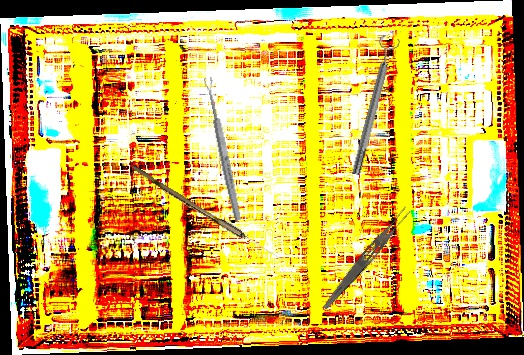Dressing Forceps: (320, 204, 414, 314)
Fixation Ring: (343, 33, 403, 178)
Surgical Spoon: (129, 164, 286, 264), (202, 76, 244, 222)
